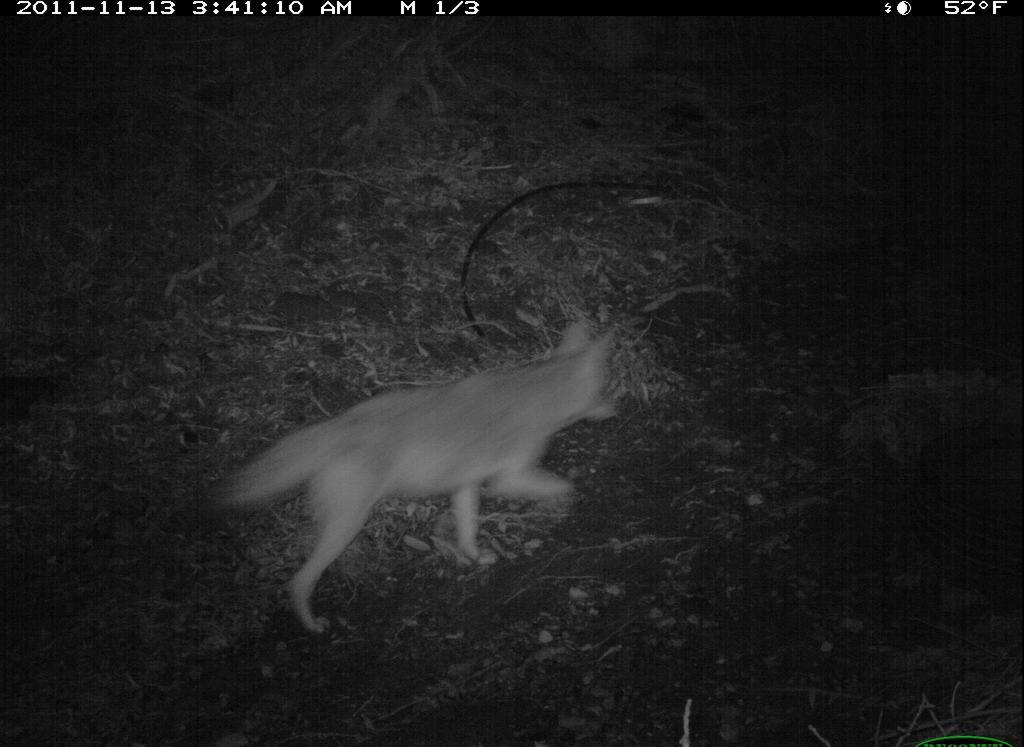coyote: (222, 314, 624, 643)
